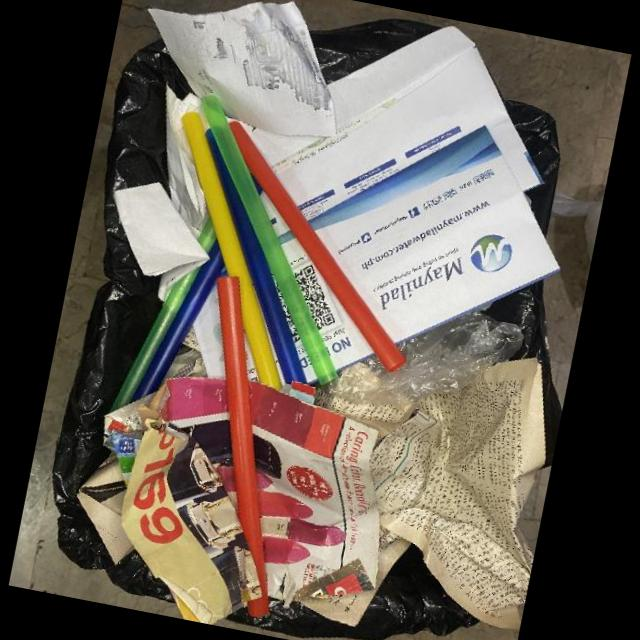giay: (297, 359, 546, 632), (229, 25, 547, 220), (307, 126, 562, 347), (250, 377, 378, 609), (120, 384, 236, 625), (150, 0, 337, 135), (158, 378, 260, 609), (110, 184, 210, 305), (79, 399, 148, 566), (167, 85, 211, 241)
ong_hut_nhua: (227, 121, 408, 374), (201, 95, 338, 386), (181, 114, 284, 389), (204, 127, 309, 385), (217, 278, 269, 621), (135, 236, 225, 406), (113, 265, 201, 410)
tui_ni_long: (324, 313, 525, 413)
